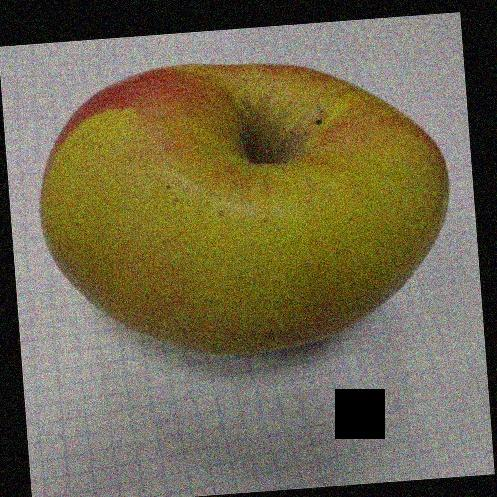green apple: (34, 60, 440, 369)
